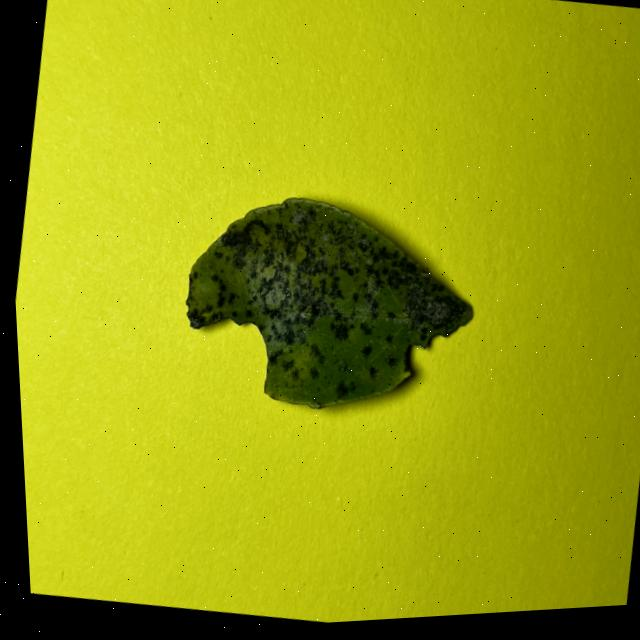sooty_mold: (186, 199, 471, 407)
